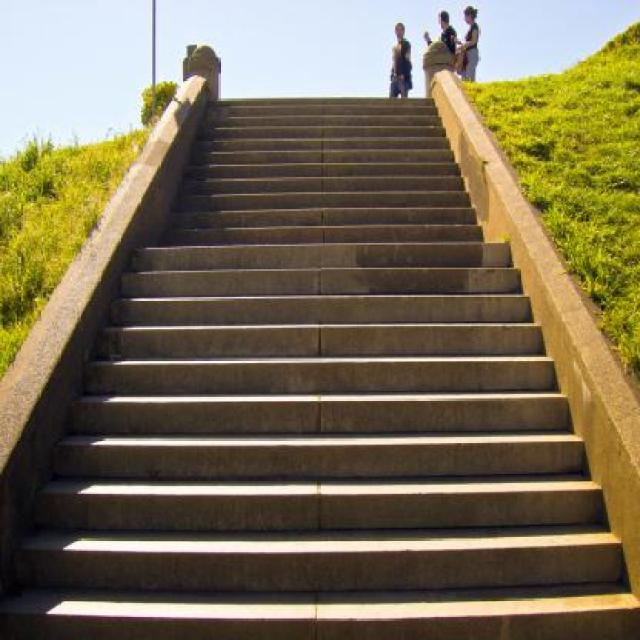stair: (0, 95, 640, 640)
